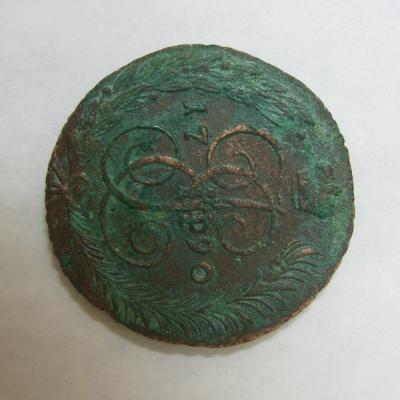numismatics: (46, 45, 354, 346)
